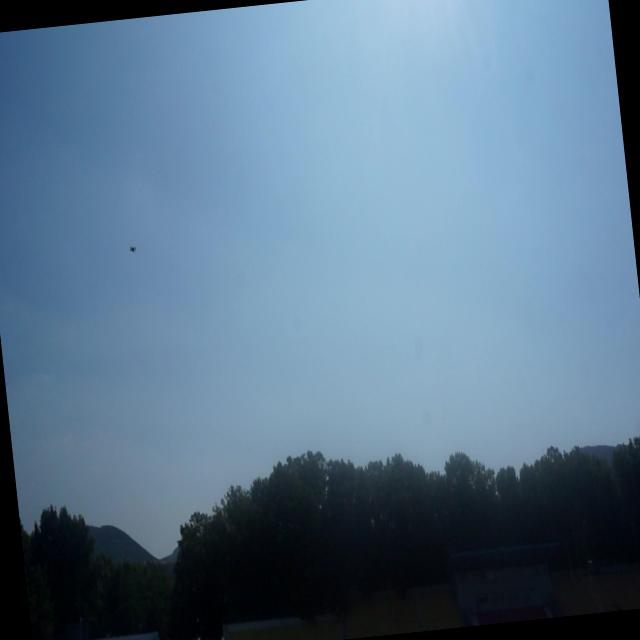drone: (125, 239, 140, 257)
